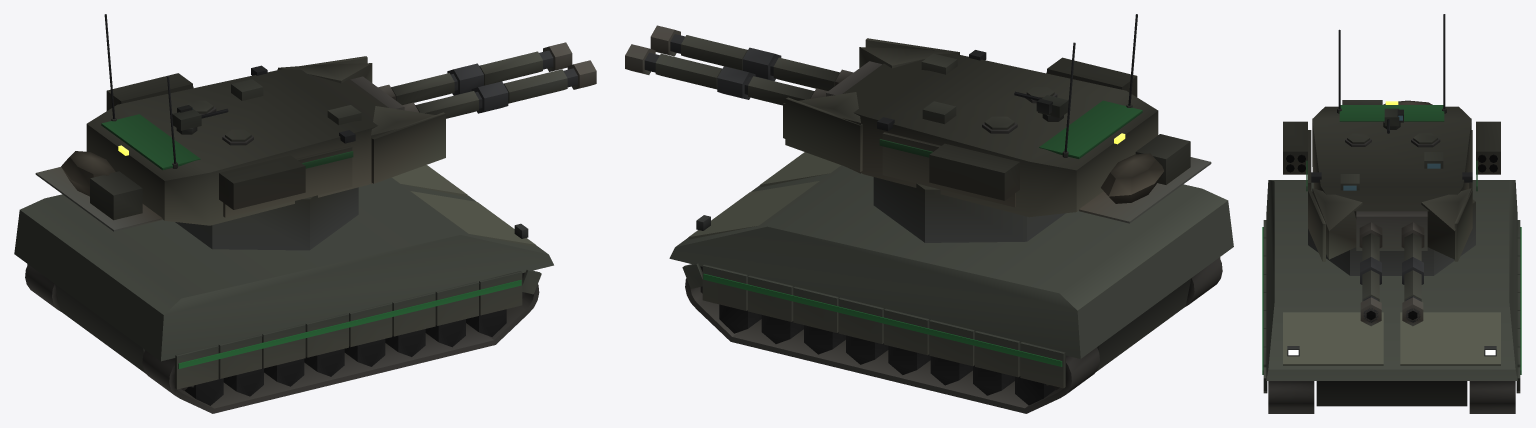
File: u_tsar_lod1.glb
The picture shows the model from 3 angles, left to right: view 1: azimuth 30°, elevation 25°; view 2: azimuth 150°, elevation 25°; view 3: azimuth 270°, elevation 25°; orthographic projection. The views are drawn at different scales.
Parts seen in each view (by area): view 1: Tsar_LOD1_turret, Tsar_LOD1_Walls, Tsar_LOD1_Foundation, Tsar_LOD1_Details; view 2: Tsar_LOD1_turret, Tsar_LOD1_Walls, Tsar_LOD1_Foundation, Tsar_LOD1_Details; view 3: Tsar_LOD1_turret, Tsar_LOD1_Walls, Tsar_LOD1_Foundation, Tsar_LOD1_Details.
Part boxes in pixels (x1=…): Tsar_LOD1_turret: x1=35, y1=14, x2=596, y2=250; Tsar_LOD1_Walls: x1=14, y1=177, x2=553, y2=389; Tsar_LOD1_Foundation: x1=25, y1=264, x2=539, y2=413; Tsar_LOD1_Details: x1=178, y1=223, x2=528, y2=368; Tsar_LOD1_turret: x1=625, y1=14, x2=1211, y2=242; Tsar_LOD1_Walls: x1=669, y1=165, x2=1233, y2=388; Tsar_LOD1_Foundation: x1=685, y1=257, x2=1222, y2=413; Tsar_LOD1_Details: x1=696, y1=215, x2=1062, y2=366; Tsar_LOD1_turret: x1=1283, y1=14, x2=1500, y2=365; Tsar_LOD1_Walls: x1=1263, y1=180, x2=1520, y2=406; Tsar_LOD1_Foundation: x1=1268, y1=381, x2=1515, y2=413; Tsar_LOD1_Details: x1=1262, y1=227, x2=1521, y2=374.
Size of the model in its own units: 2.38 by 1.47 by 1.24.
